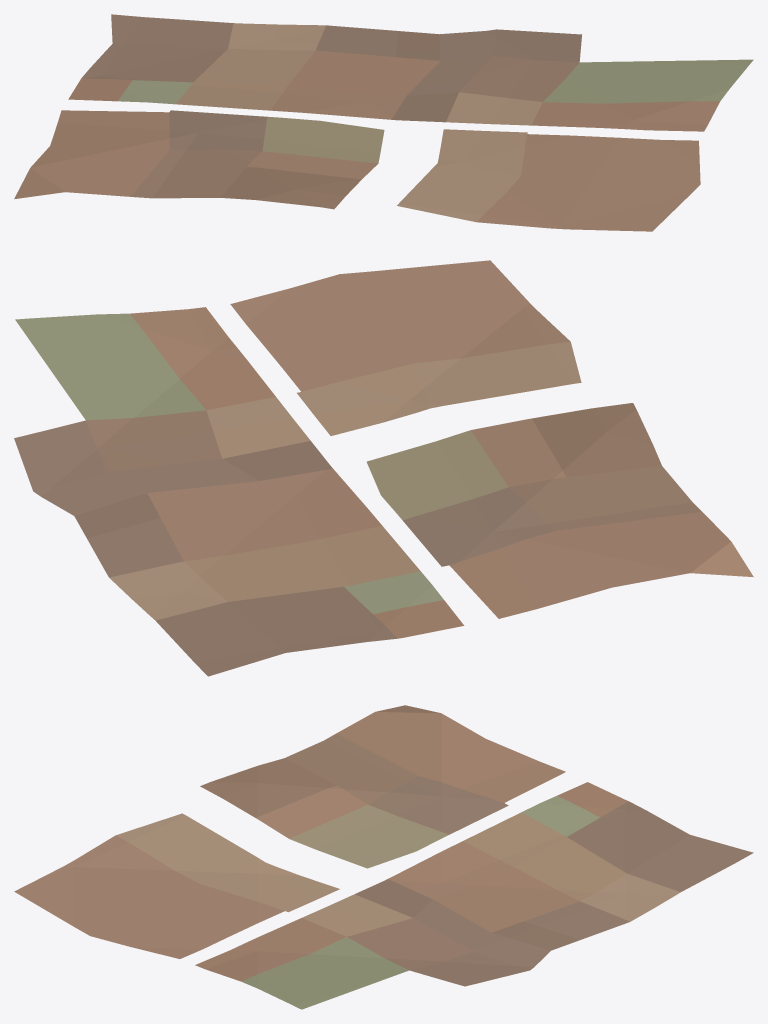
File: farm_-39_-48_soil.glb
3 renders of one model, top to bottom at view 1: azimuth 30°, elevation 25°; view 2: azimuth 150°, elevation 25°; view 3: azimuth 270°, elevation 25°, orthographic. The views are drawn at different scales.
Parts seen in each view (by area): view 1: geometry_0; view 2: geometry_0; view 3: geometry_0.
Boxes of the visible parts, <box> form: geometry_0: <box>14,14,753,231</box>; geometry_0: <box>14,260,753,676</box>; geometry_0: <box>14,705,753,1009</box>.
Bounding box in the file's own units: 326 × 17.05 × 322.
